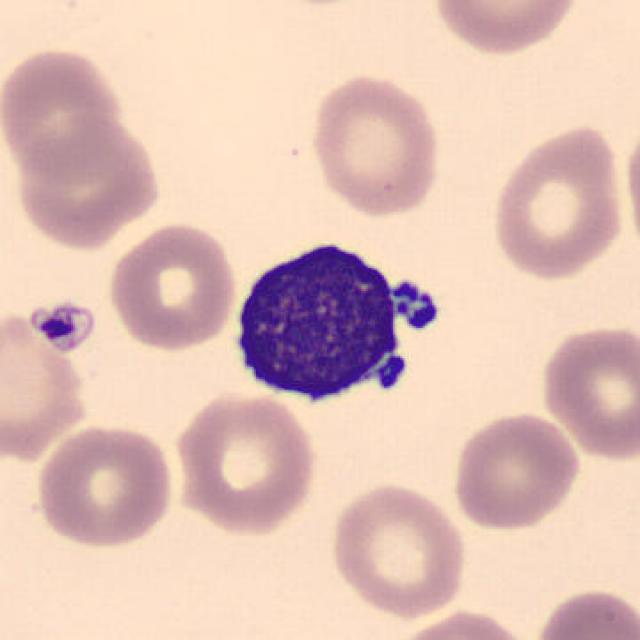Lymphocyte: (220, 226, 447, 416)
Platelets: (29, 296, 100, 354), (391, 279, 445, 333)
RBC: (487, 120, 629, 284), (169, 388, 322, 538), (9, 114, 163, 250), (306, 69, 444, 220), (326, 480, 470, 620), (30, 420, 178, 550), (105, 218, 240, 354), (0, 43, 128, 184), (448, 408, 585, 532), (535, 319, 640, 466), (0, 303, 92, 463), (427, 0, 585, 58), (529, 583, 638, 640), (384, 606, 537, 640)
